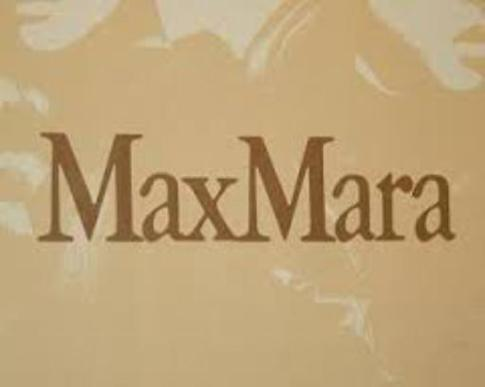MAX-MARA: (37, 124, 458, 244)
